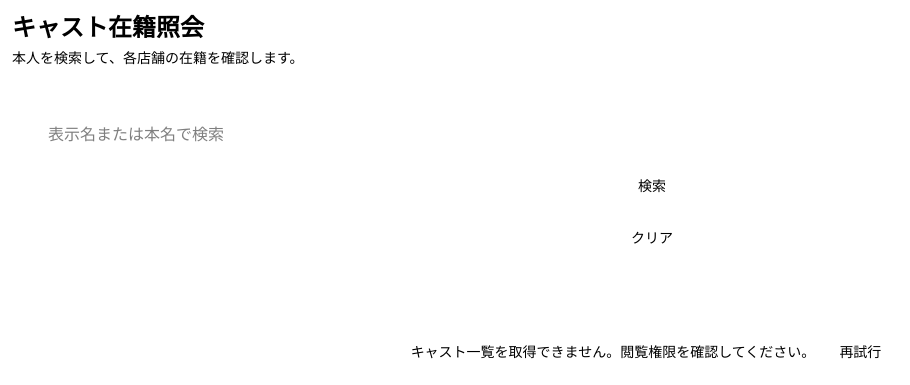
一覧取得の失敗を空結果にせず再試行できる
Expected: the message shows "キャスト一覧を取得できません", left=411, top=343, right=815, bottom=360
Click the button "再試行": click(860, 352) left=827, top=336, right=893, bottom=368
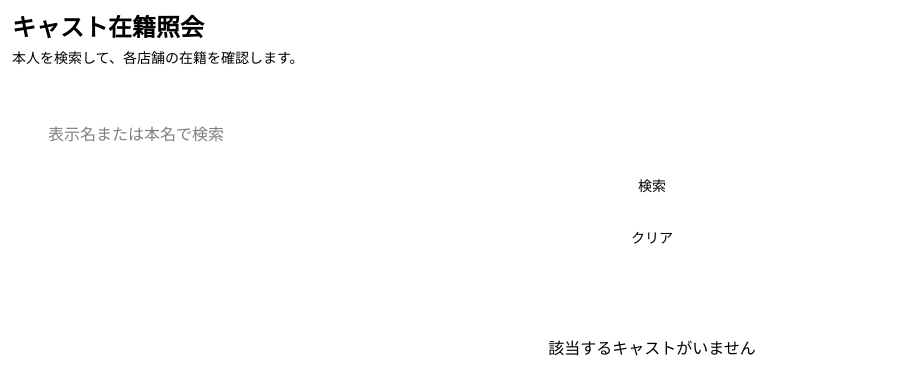
Now the text "該当するキャストがいません" is shown, box left=548, top=338, right=756, bottom=358
